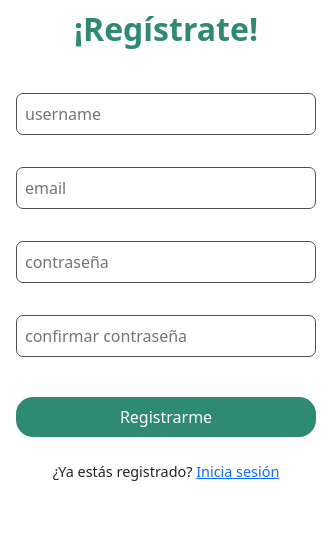
Test: NewUser Component Test › shows error for short password test
Type "usuario1" into the field with placeholder "username". click: (166, 114)
box: [16,93,316,135]
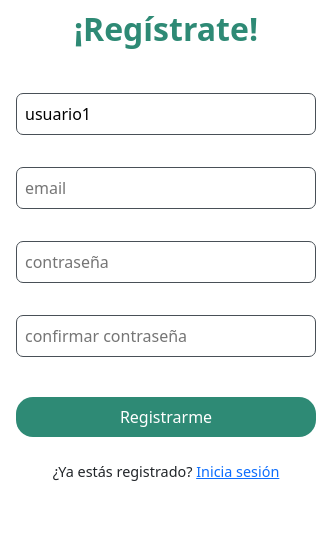
Type "user@example.com" into the field with placeholder "email". click: (166, 188)
box: [16,167,316,209]
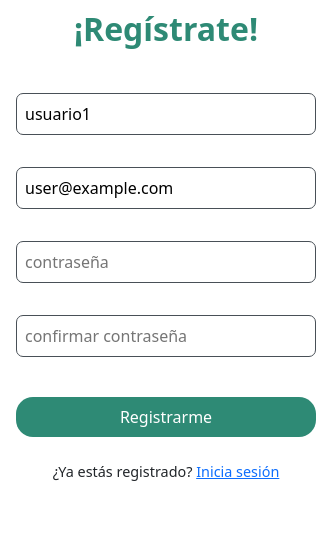
Type "123" into the password field with placeholder "contraseña". click: (166, 262)
box: [16,241,316,283]
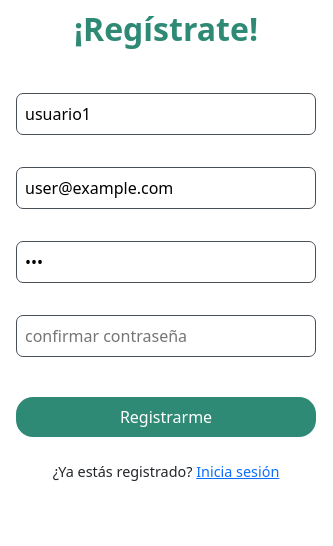
Type "123" into the password field with placeholder "confirmar contraseña". click: (166, 336)
box: [16,315,316,357]
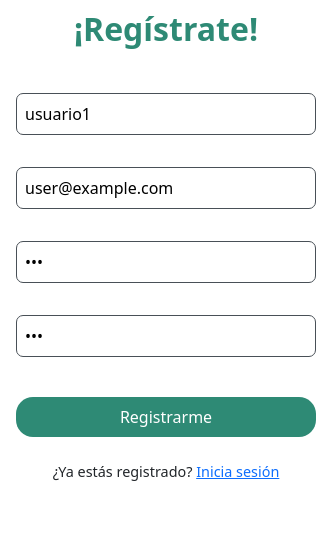
Click the button "Registrarme". click: (166, 417)
box: [16,397,316,437]
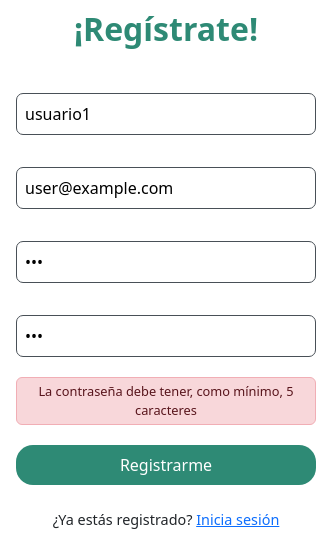
Now the text "La contraseña debe tener, como mínimo, 5 caracteres" is shown, box [16,377,316,425]
